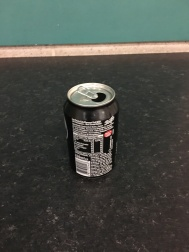can_black: (59, 79, 127, 189)
